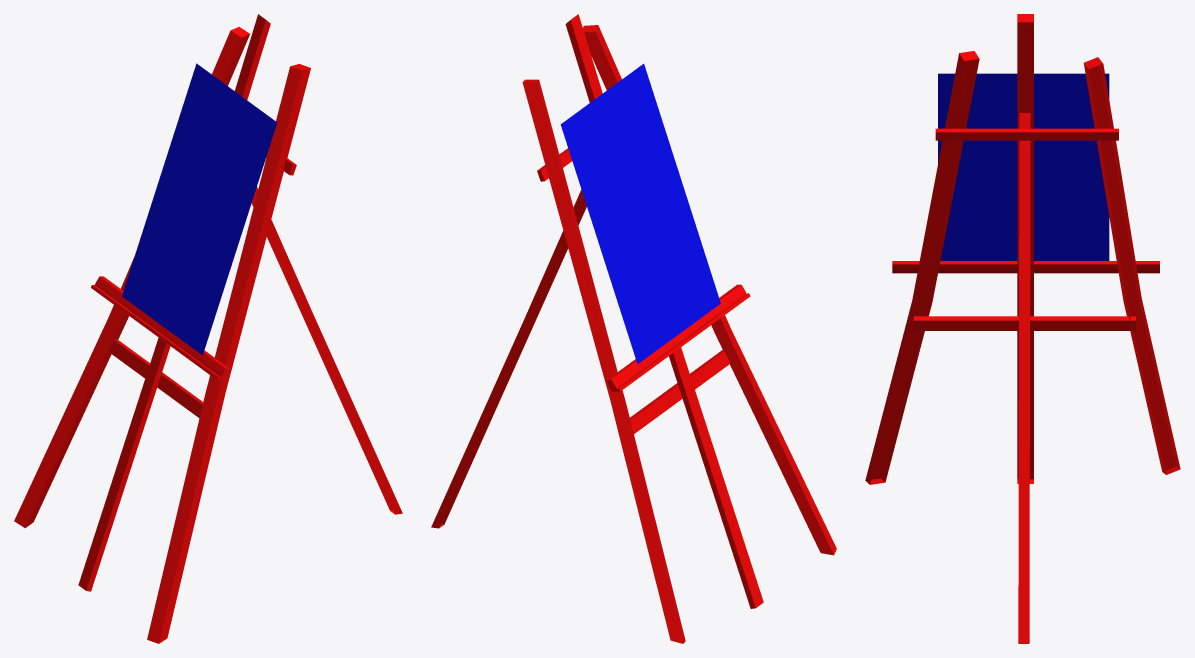
Rendered from SM_Chevalet.fbx.
3 views of the same model, side by side, from view 1: azimuth 30°, elevation 25°; view 2: azimuth 150°, elevation 25°; view 3: azimuth 270°, elevation 25° (orthographic). The views are drawn at different scales.
Visible parts, largest first — view 1: Chevalet; view 2: Chevalet; view 3: Chevalet.
Boxes of the visible parts, x1,y1,x2,y2 form: Chevalet: [14, 14, 402, 643]; Chevalet: [431, 14, 836, 643]; Chevalet: [865, 14, 1180, 643].
Bounding box in the file's own units: 22.68 × 35.75 × 18.23.
